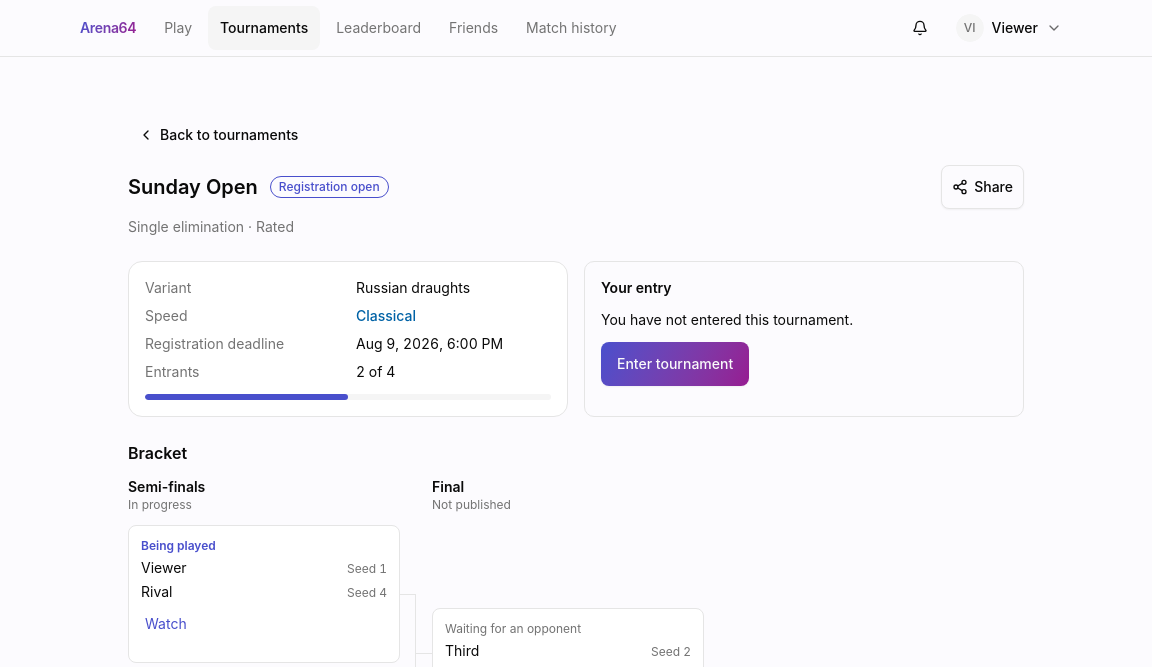
Test case: registers once and shows the state the server confirmed
Double-click the button "Enter tournament".
double_click(675, 364)  # box [601,342,749,386]
(page scrolled)
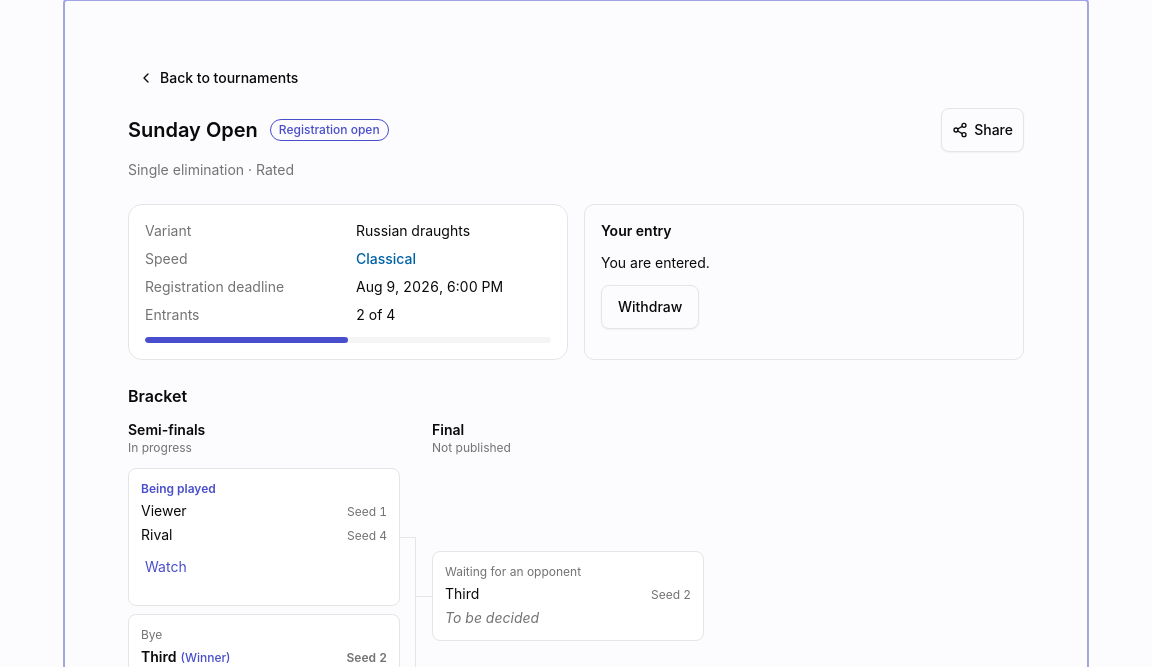
Expected: the text "You are entered." is shown, [601,254,710,271]
Expected: the button "Withdraw" is shown, [601,285,699,329]
